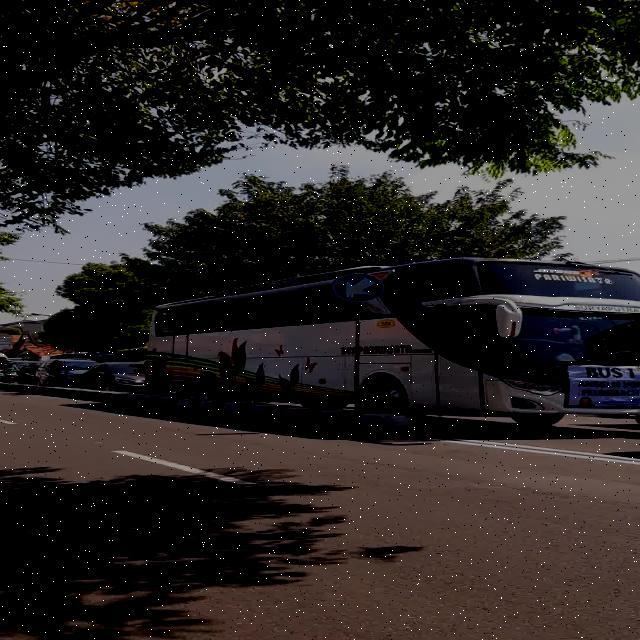Lajur Kiri: (332, 273, 384, 302)
